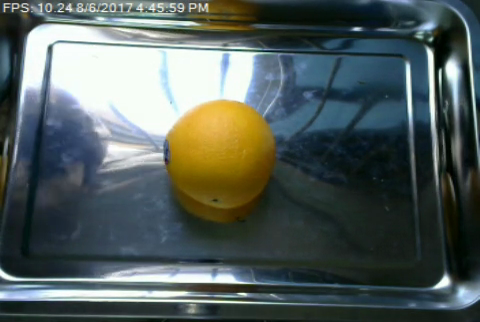Orange: (163, 99, 275, 210)
